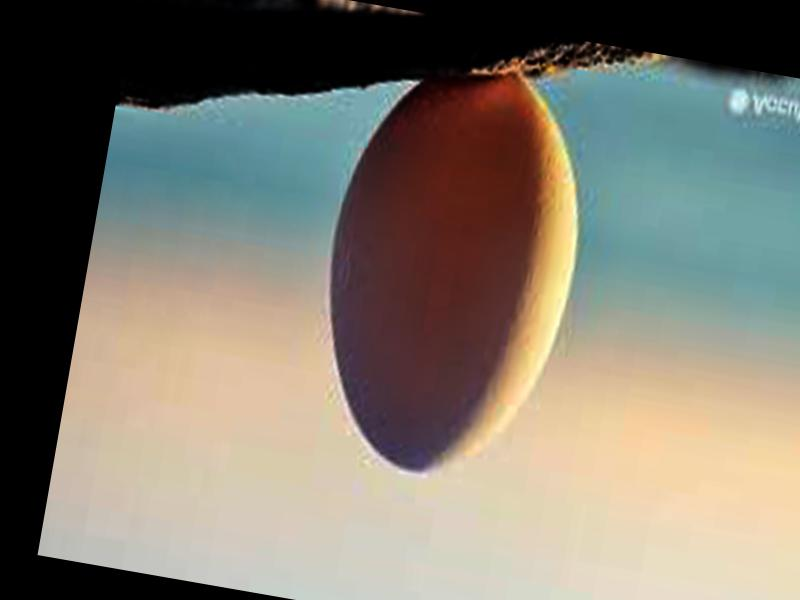Eggs: (296, 53, 605, 496)
